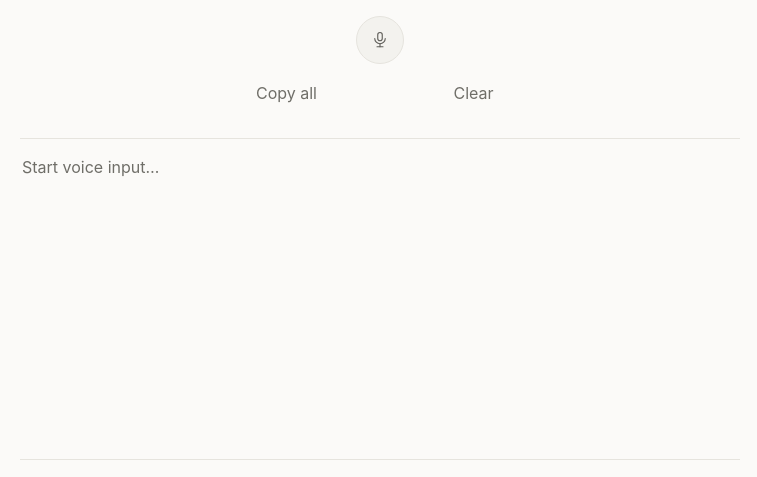
Test: VoiceView › searches a selection by itself, with no tap on an action
In the text box with placeholder "Start voice input…": (380, 299) [20,139,740,459], type "spoken words"
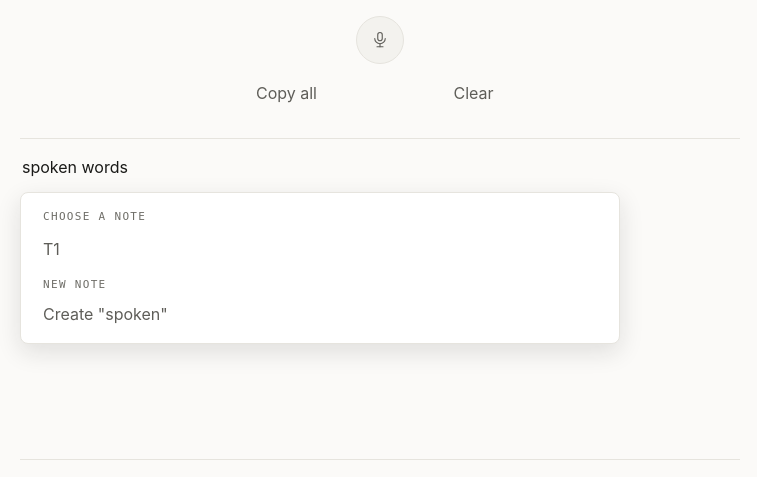
Result: the button "T1" is shown at [33,232,575,266]
